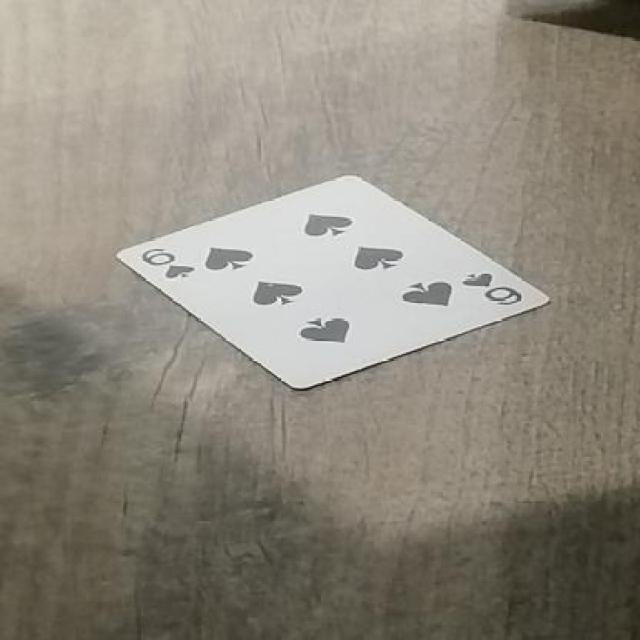6S: (451, 251, 543, 315), (115, 233, 197, 289)
